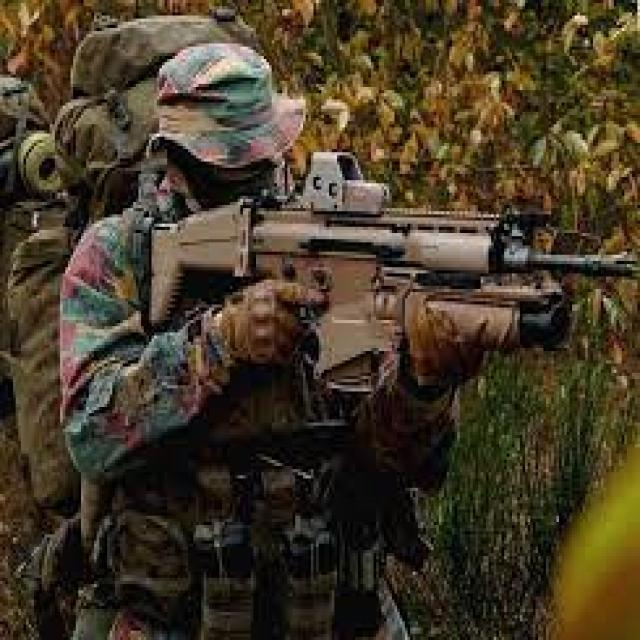Gun: (141, 180, 640, 392)
